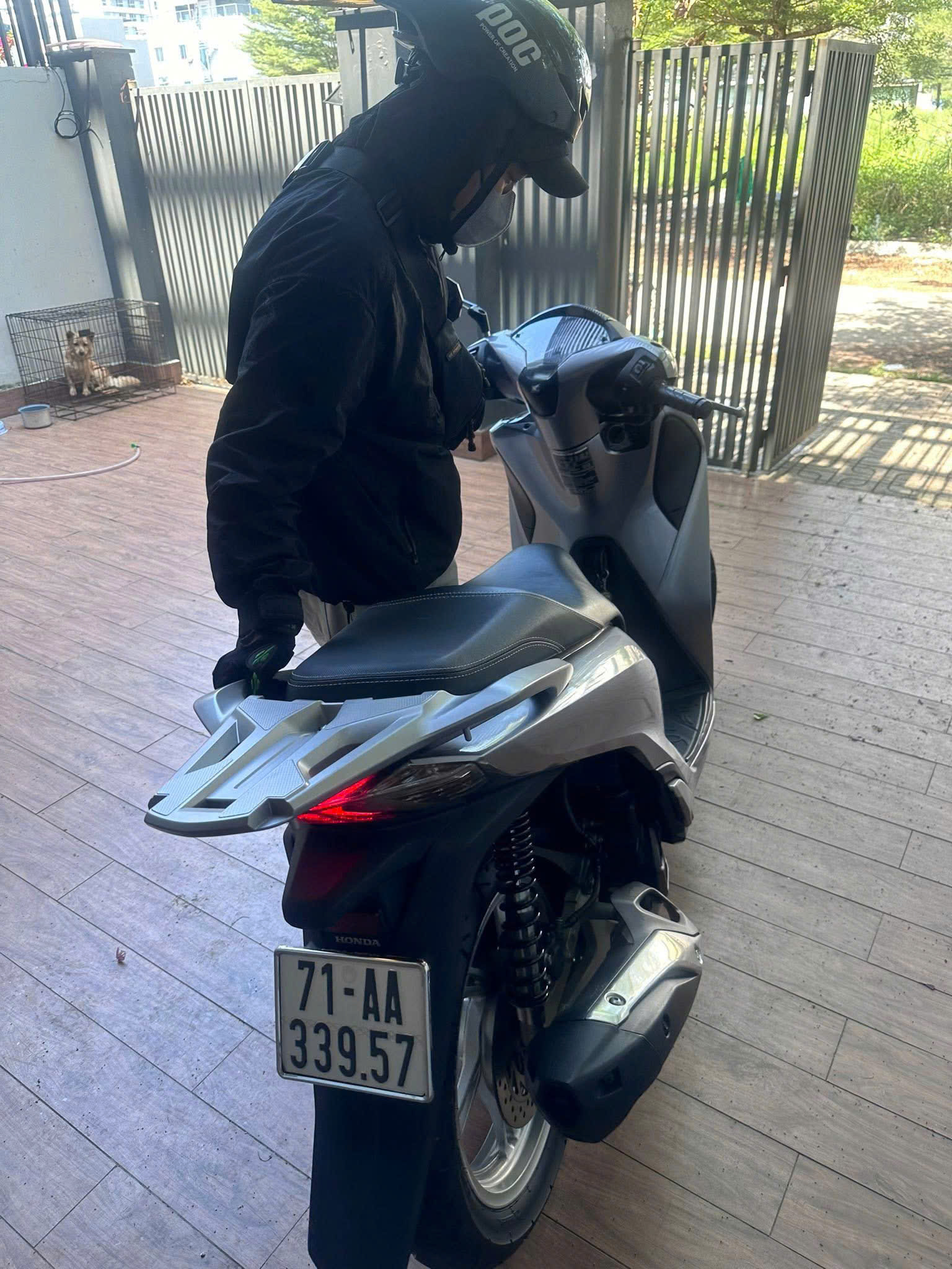Bien-so: (275, 946, 431, 1100)
